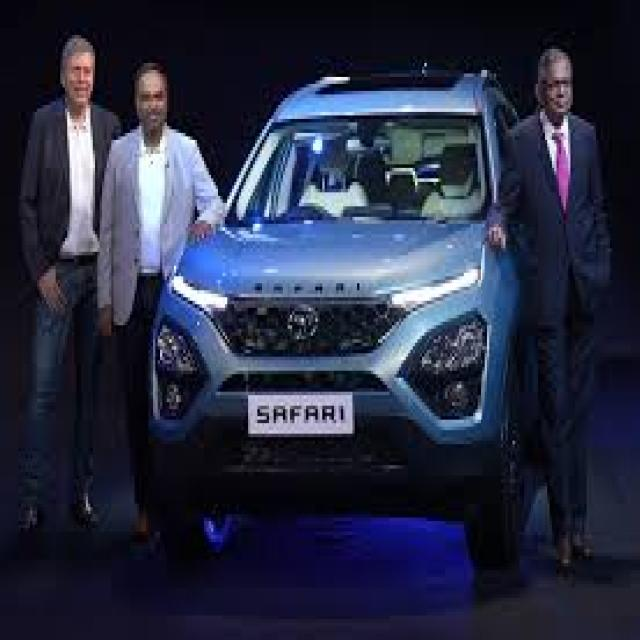cars: (147, 54, 558, 602)
